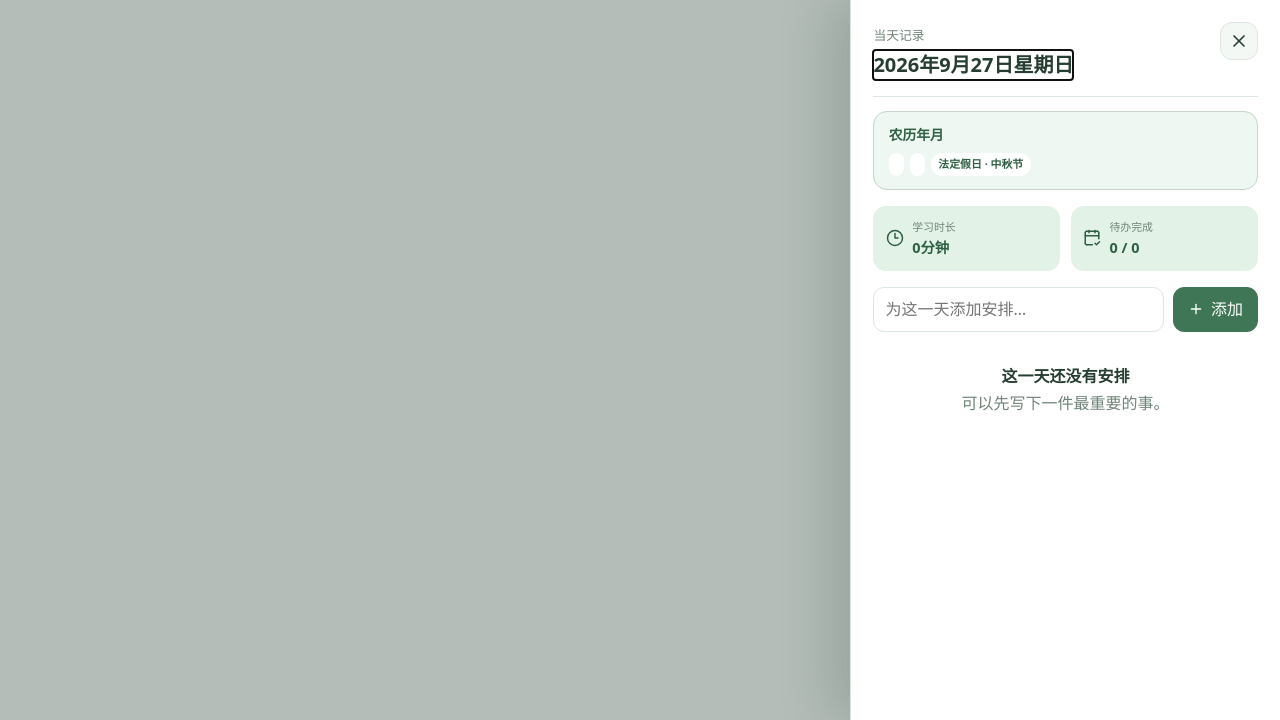
Test: keeps typed text when adding a task fails
Step 1. Type "作文默写" into the field named "新增当天待办" → x=1019, y=309, box [873,287,1164,332]
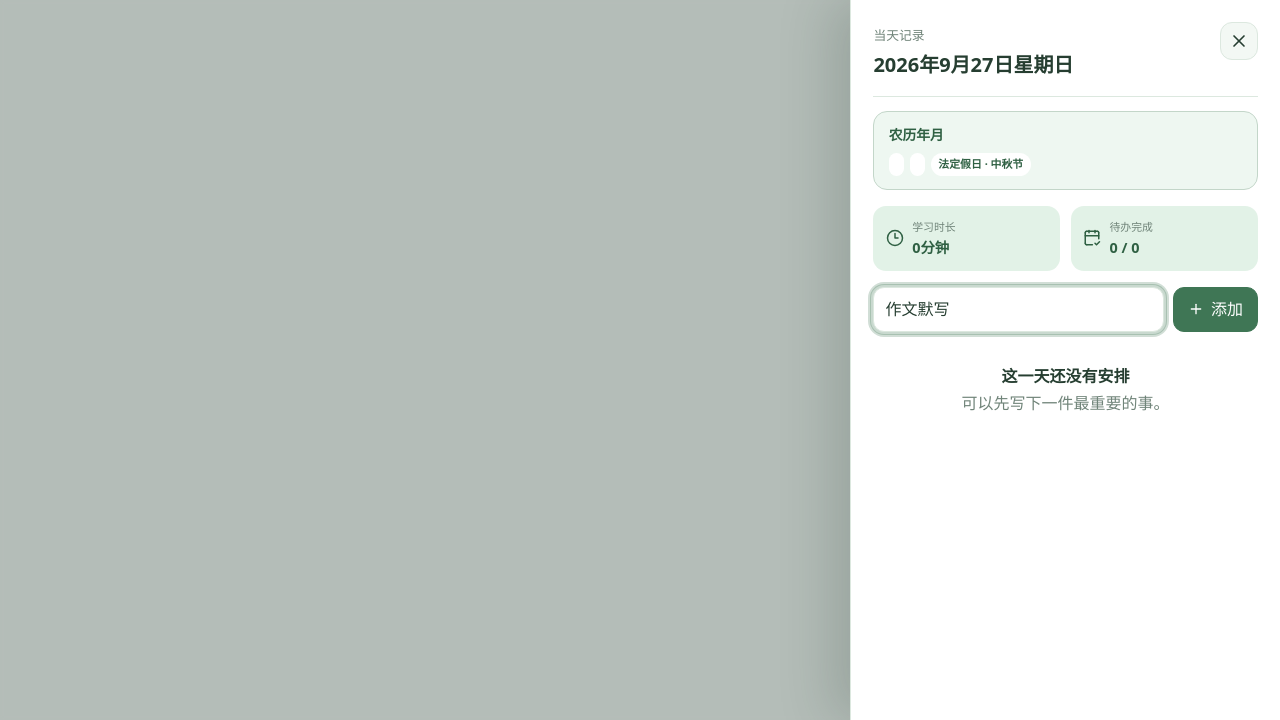
Step 2. Click the button "添加" → x=1215, y=309, box [1173,287,1258,332]
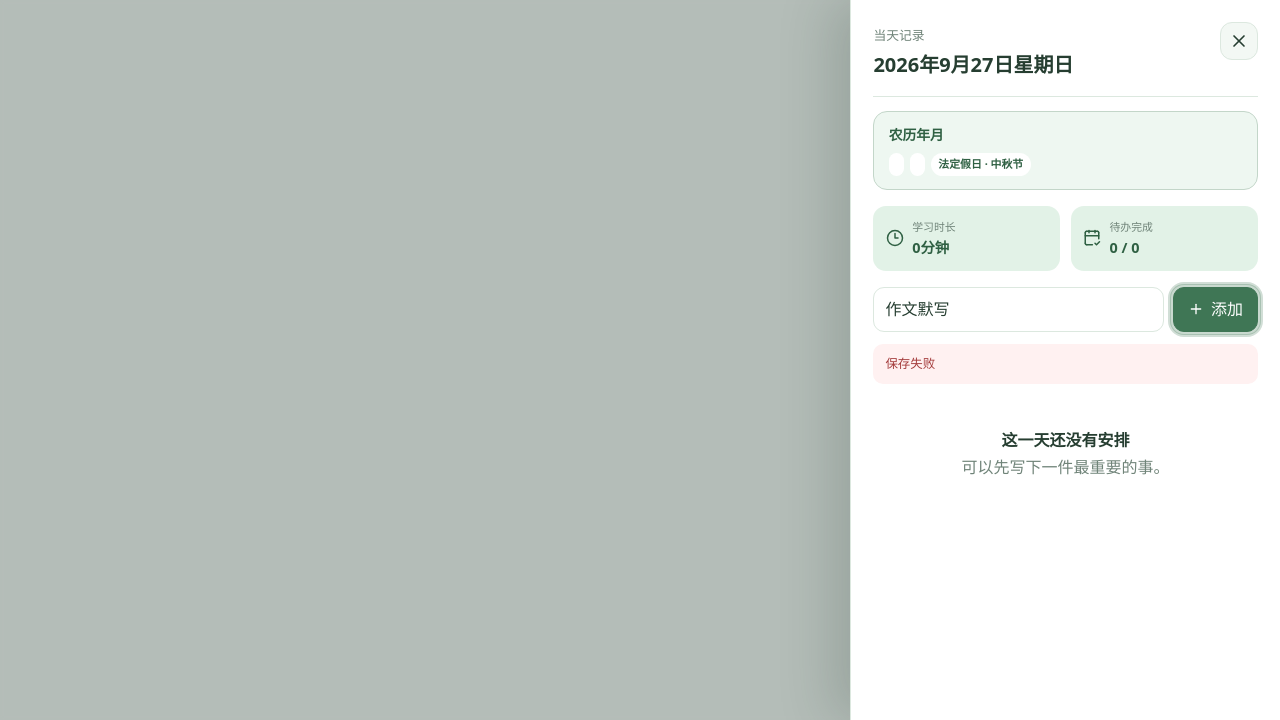
Result: the message reads "保存失败" at [885,354,935,372]
